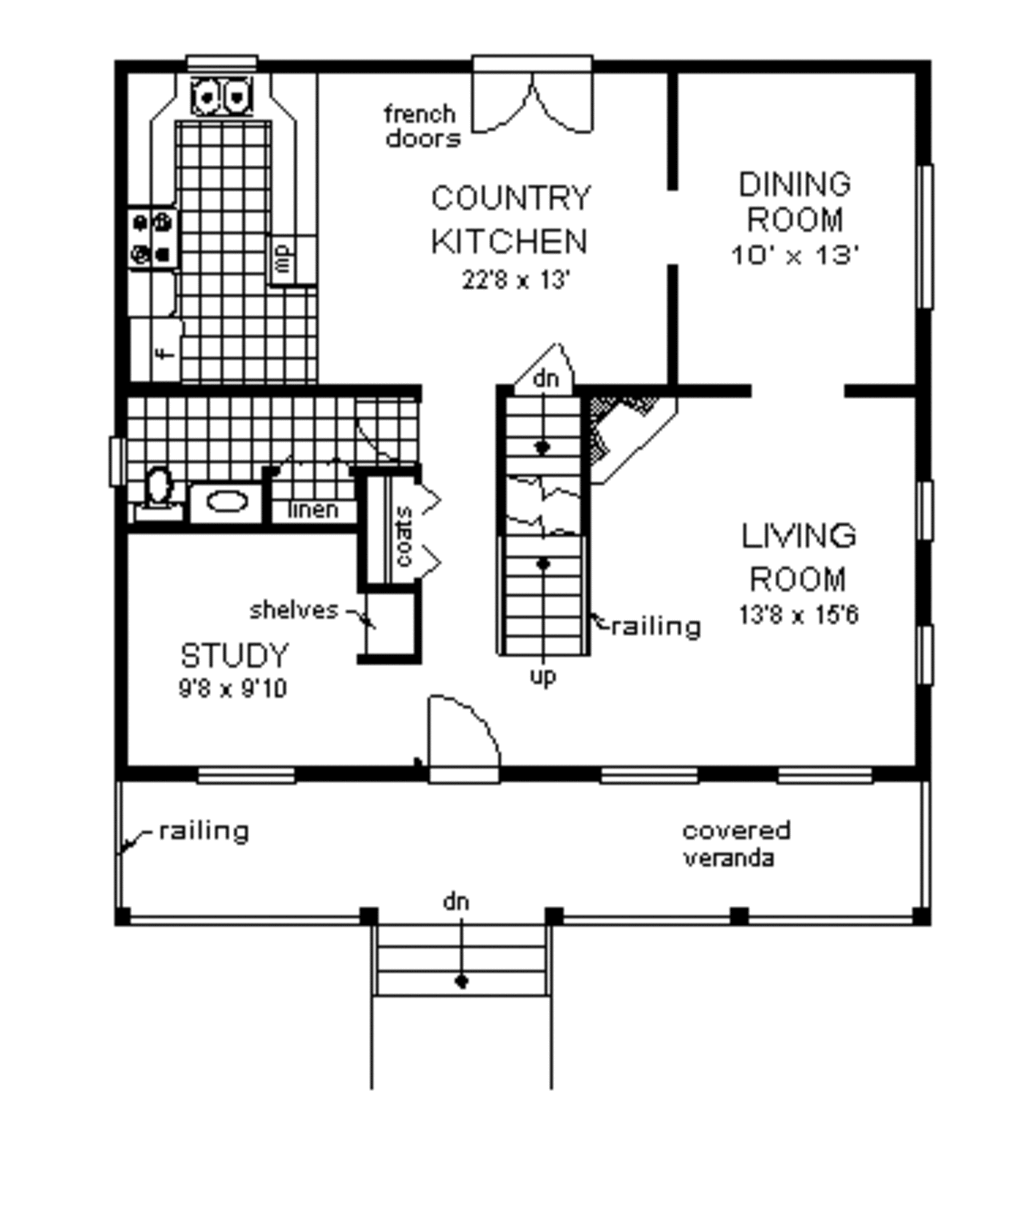door: (456, 50, 620, 150), (422, 688, 509, 790)
large_sink: (137, 460, 183, 526)
small_sink: (189, 481, 268, 526)
stairs: (360, 911, 551, 1092), (504, 390, 588, 662)
twin_sink: (175, 52, 264, 130)
window: (908, 168, 934, 323), (596, 756, 707, 788), (192, 763, 300, 792), (777, 764, 885, 787), (902, 480, 937, 546), (913, 620, 934, 696)
